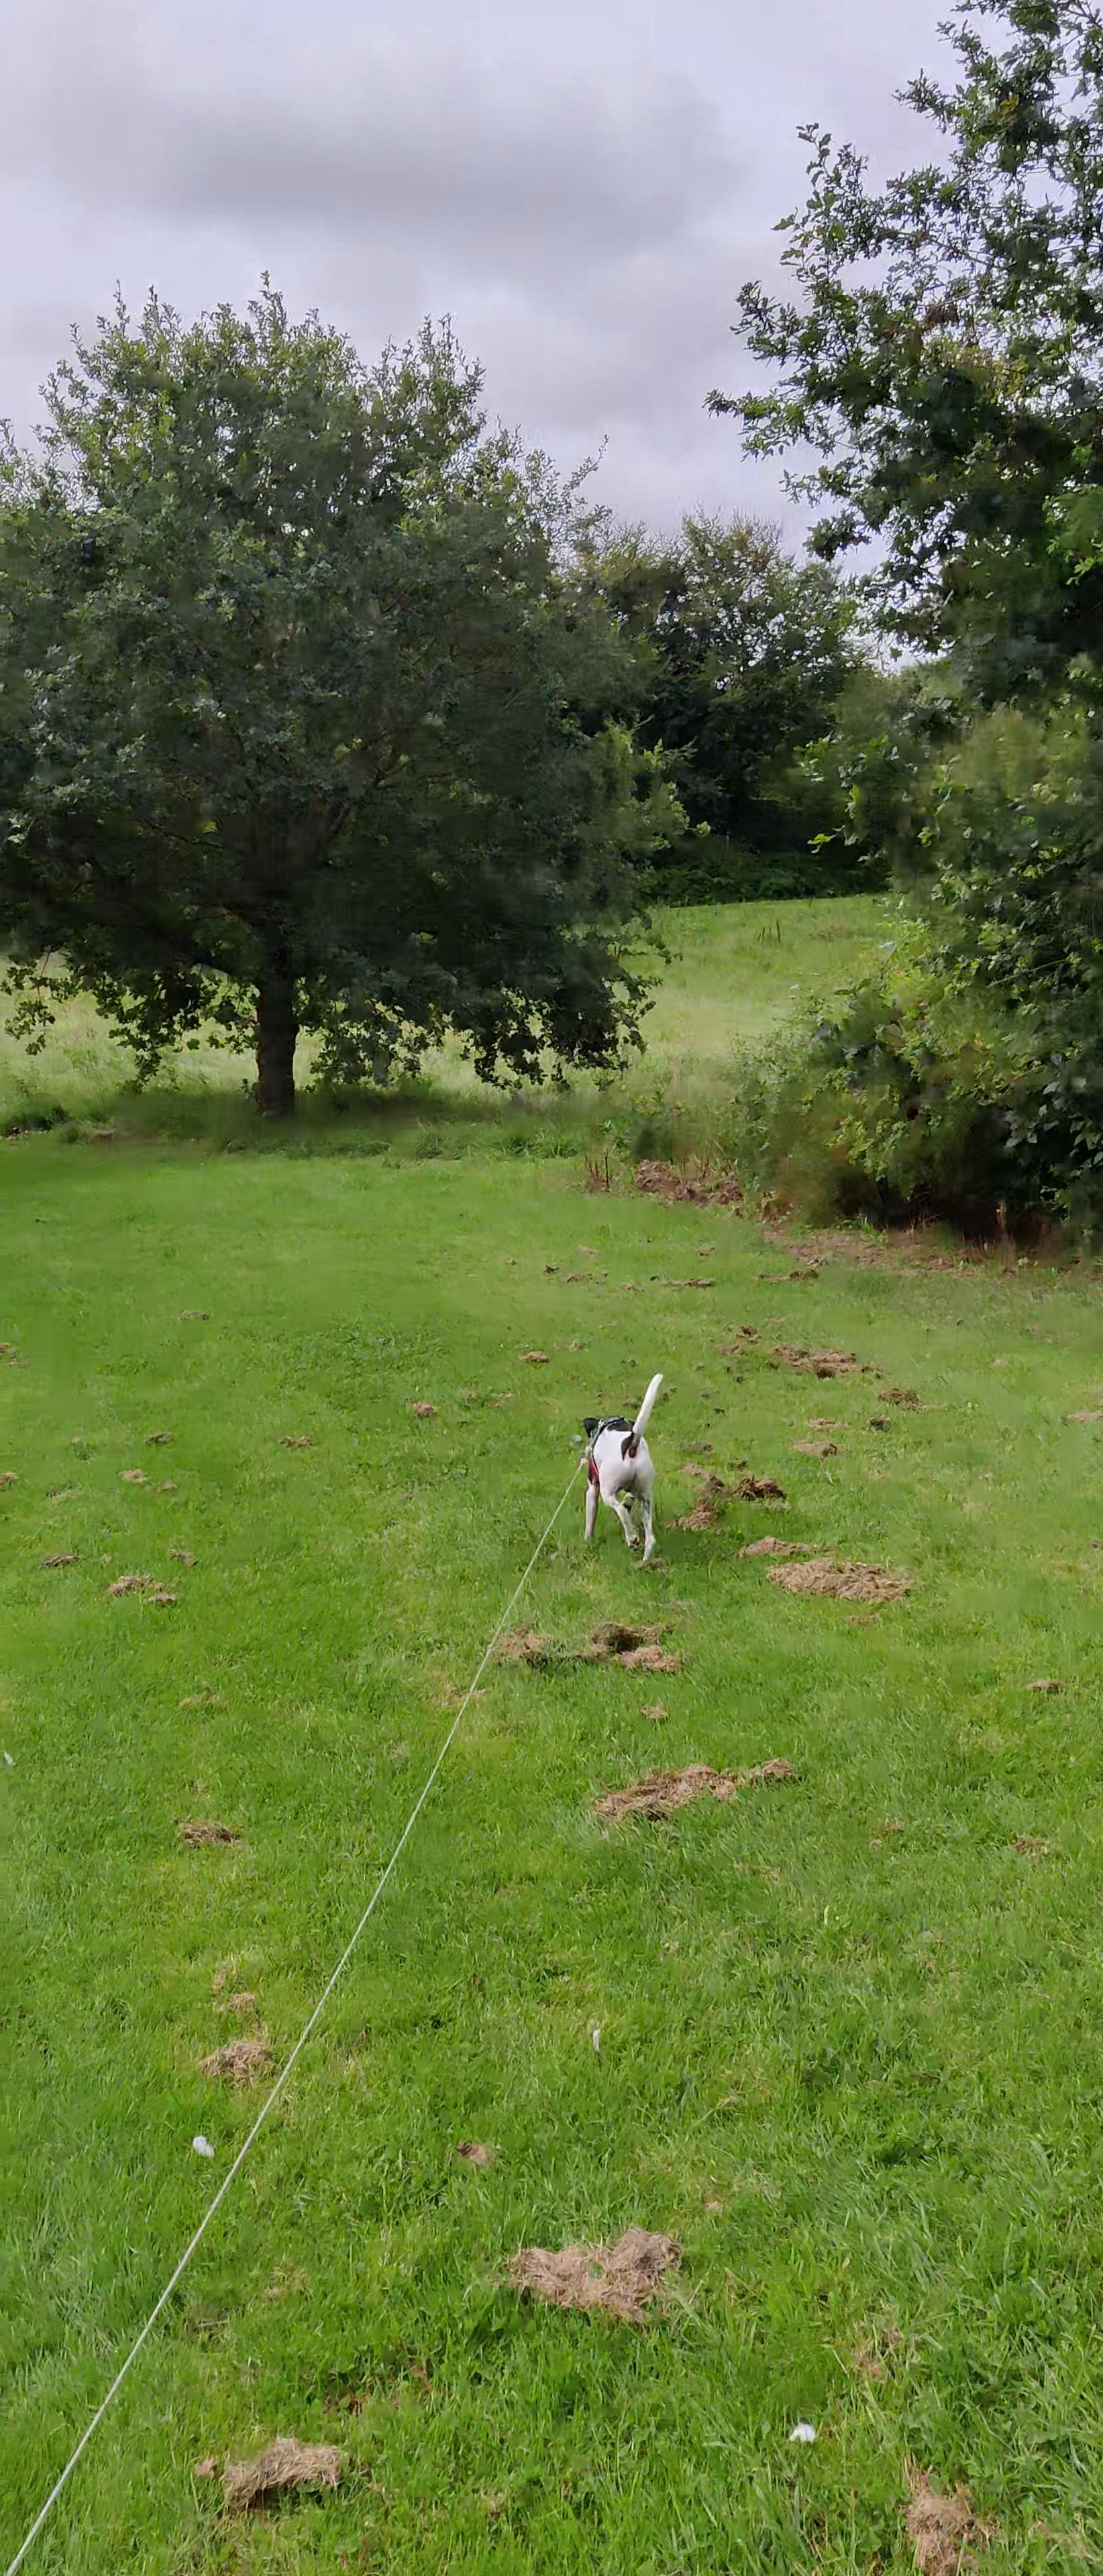Dog: (565, 1359, 676, 1580)
